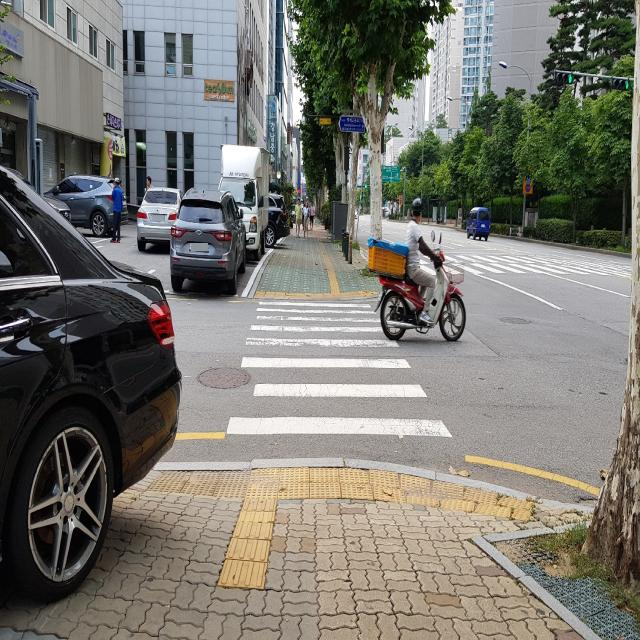횡단보도: (227, 301, 452, 437), (460, 252, 638, 283)
